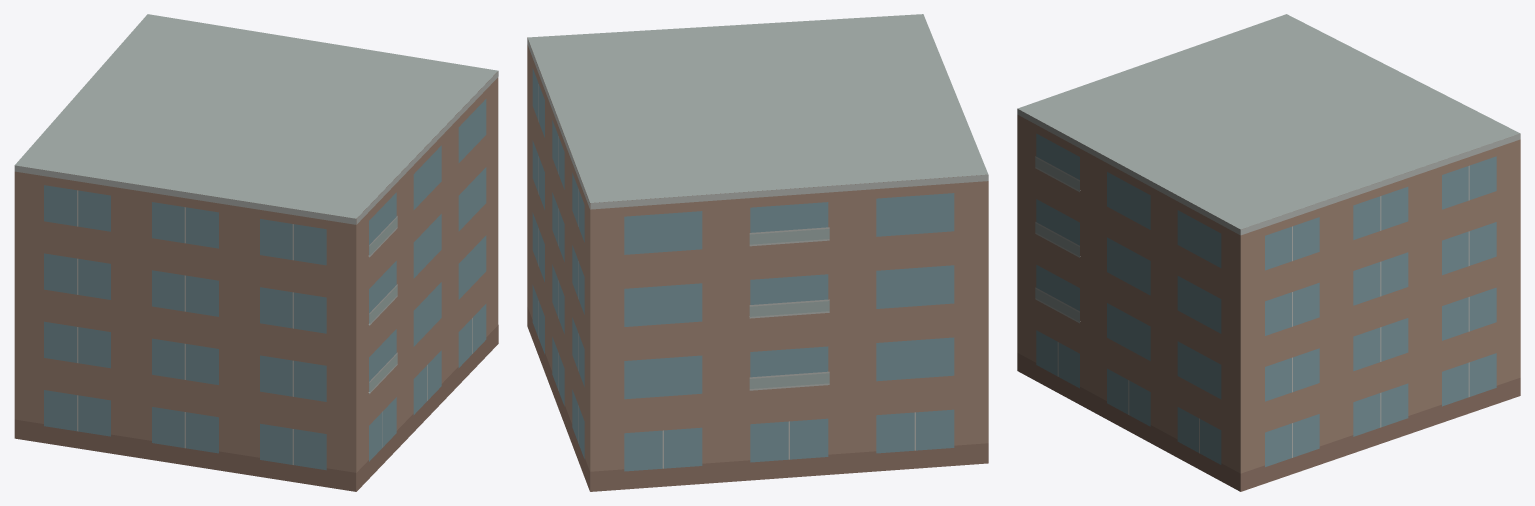
File: survey-upis-32777943.glb
3 renders of one model, left to right at view 1: azimuth 30°, elevation 25°; view 2: azimuth 150°, elevation 25°; view 3: azimuth 270°, elevation 25°, orthographic. The views are drawn at different scales.
Visible parts, largest first — view 1: survey-upis-32777943.tmp; view 2: survey-upis-32777943.tmp; view 3: survey-upis-32777943.tmp.
Boxes of the visible parts, box(x1,y1,x2,y2) form: survey-upis-32777943.tmp: box(14, 14, 498, 491); survey-upis-32777943.tmp: box(527, 14, 988, 491); survey-upis-32777943.tmp: box(1017, 14, 1520, 491).
Bounding box in the file's own units: 19.13 × 10.85 × 18.87.
